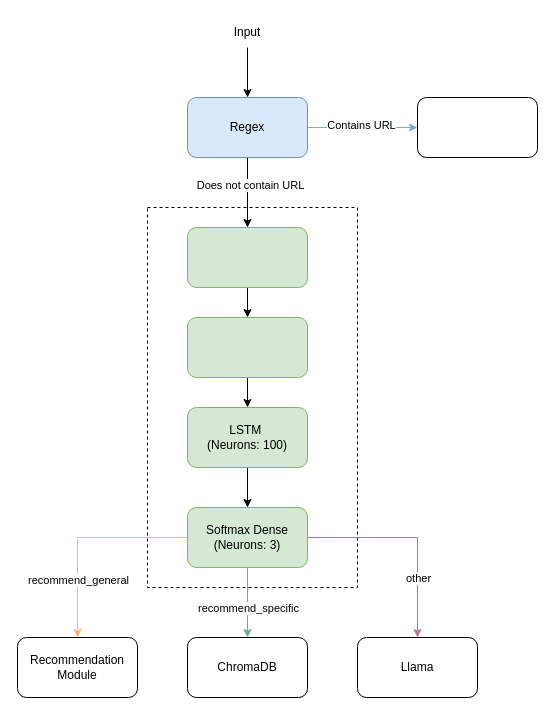
The diagram is 555 pixels wide and 715 high, and some of its shapes have lost their labels. Each missing label, with the box of its shape:
Embedding Layer (Dim: 32): (186, 316, 308, 378)
Tokenizer: (186, 226, 308, 288)
Webscraping Module: (416, 96, 538, 158)
